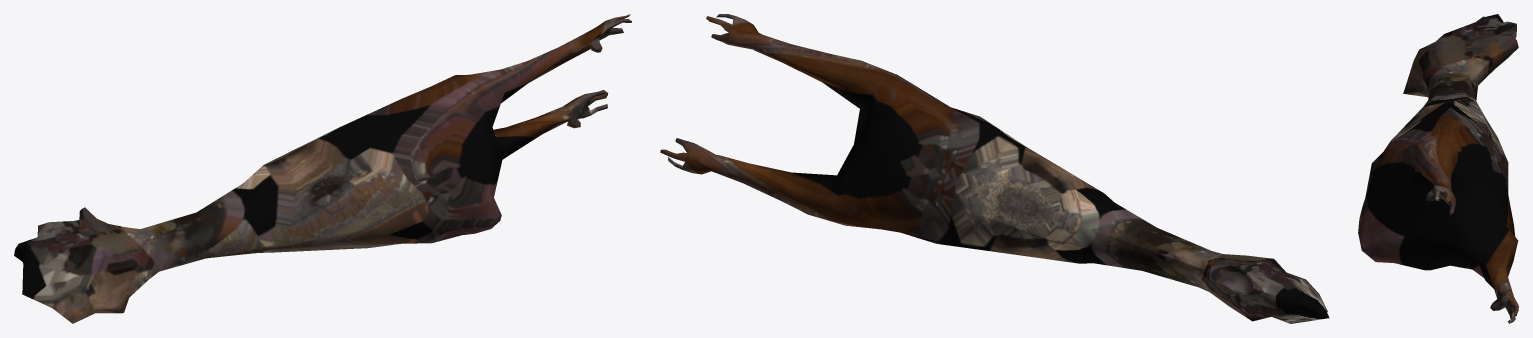
Rendered from squeaky_toy.fbx.
3 renders of one model, left to right at view 1: azimuth 30°, elevation 25°; view 2: azimuth 150°, elevation 25°; view 3: azimuth 270°, elevation 25°, orthographic. The views are drawn at different scales.
Visible parts, largest first — view 1: squeaky_toy; view 2: squeaky_toy; view 3: squeaky_toy.
Part boxes in pixels (bbox=[...]): squeaky_toy: bbox=[14, 14, 631, 323]; squeaky_toy: bbox=[660, 14, 1329, 323]; squeaky_toy: bbox=[1358, 14, 1518, 323].
Size of the model in its own units: 88.31 by 23.1 by 19.65.
